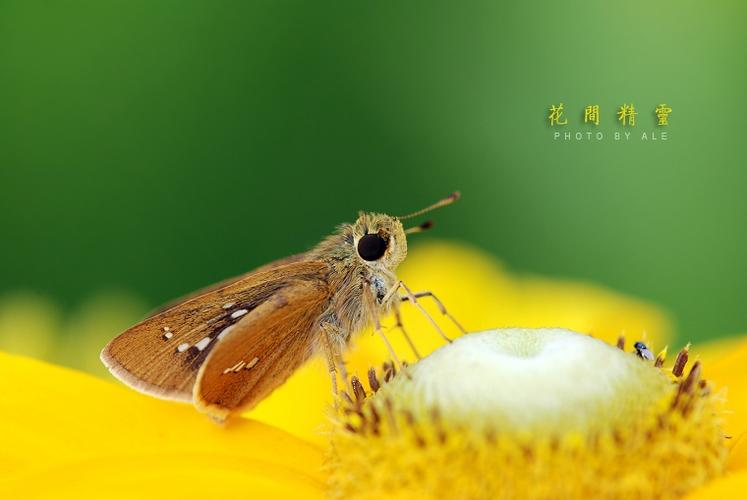Hesperiidae: (94, 184, 466, 418)
